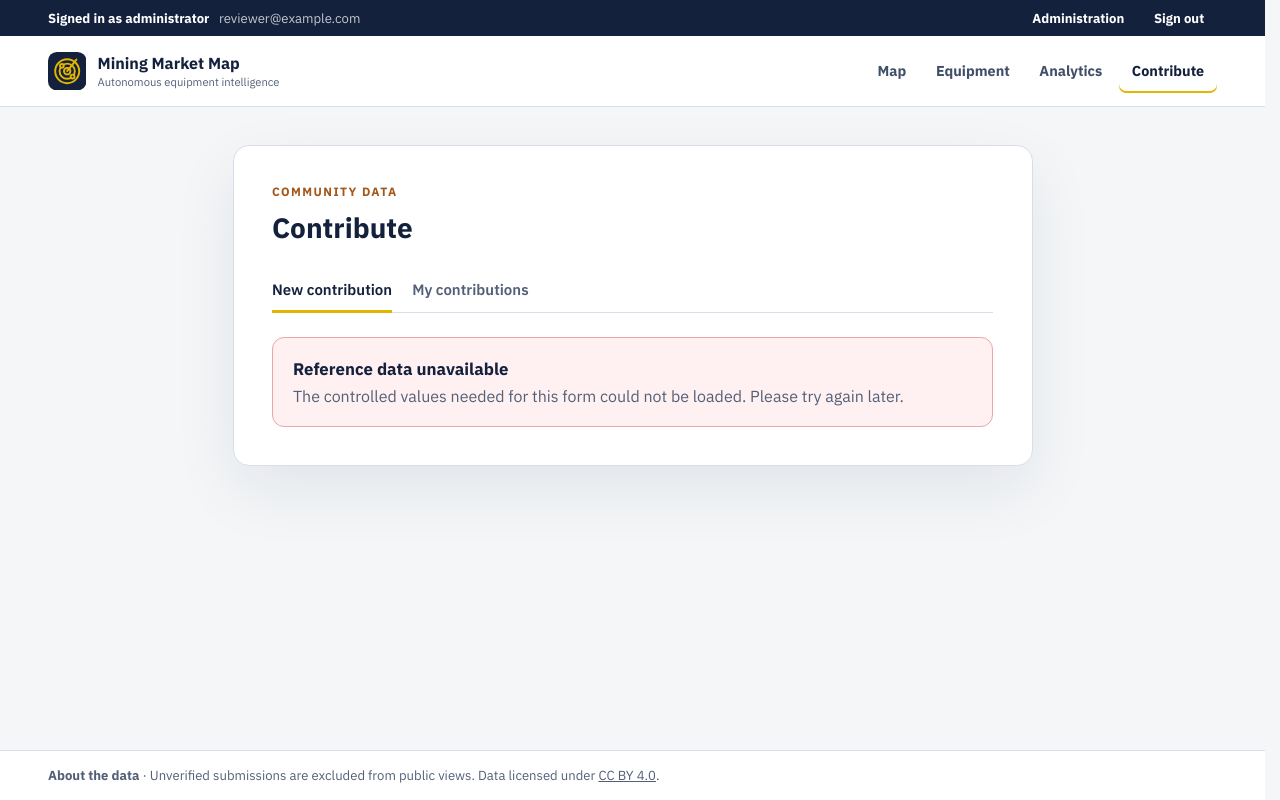
Scenario: administration access › shows a signed-in administrator on public pages, with a way back and out
Expected: the text "Signed in as administrator" is shown, x1=48 y1=10 x2=209 y2=26
Expected: the text "reviewer@example.com" is shown, x1=219 y1=10 x2=360 y2=26
Step 1. Click the button "Sign out" → (1179, 18), box x1=1141 y1=0 x2=1217 y2=36
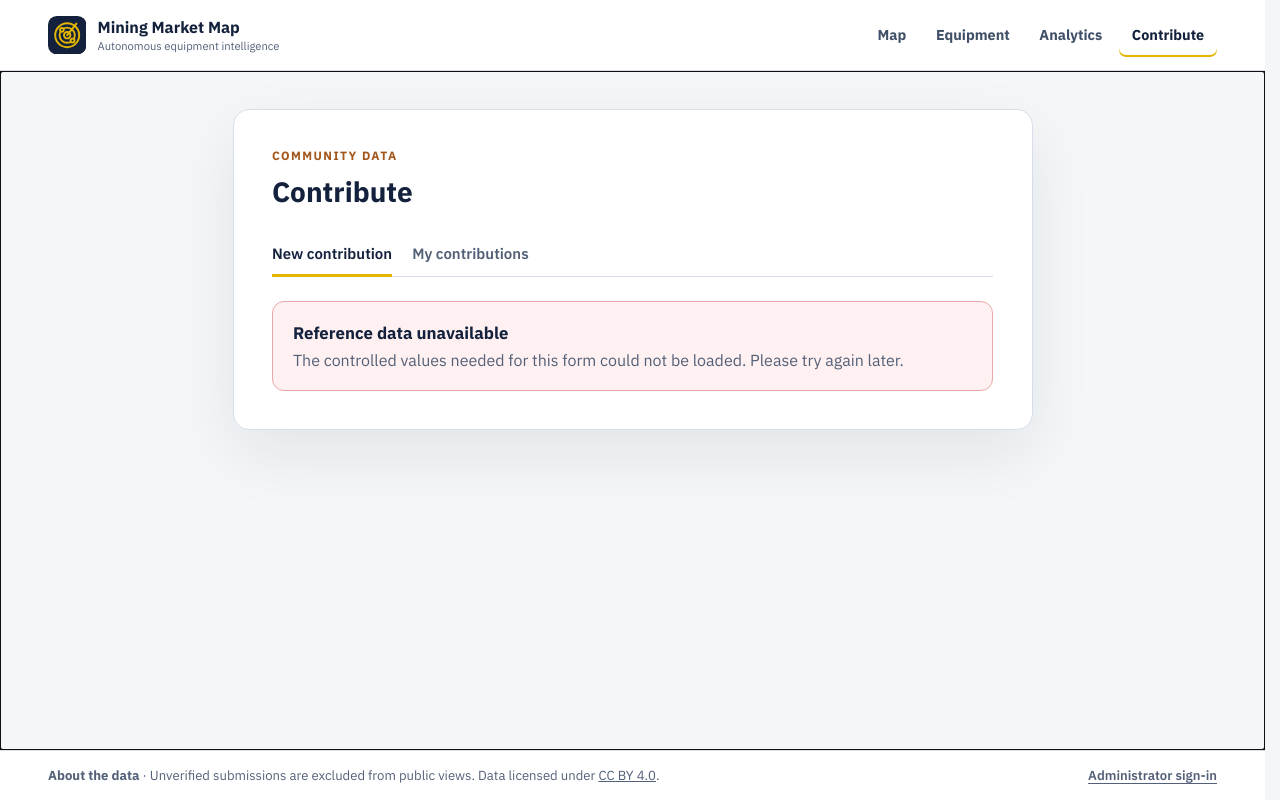
Expected: the heading "Contribute" is shown, x1=272 y1=175 x2=413 y2=209
Now the link "Administrator sign-in" is shown, box x1=1088 y1=767 x2=1217 y2=784
Now the text "Signed in as administrator" is gone
